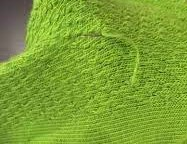snag: (97, 27, 143, 88)
